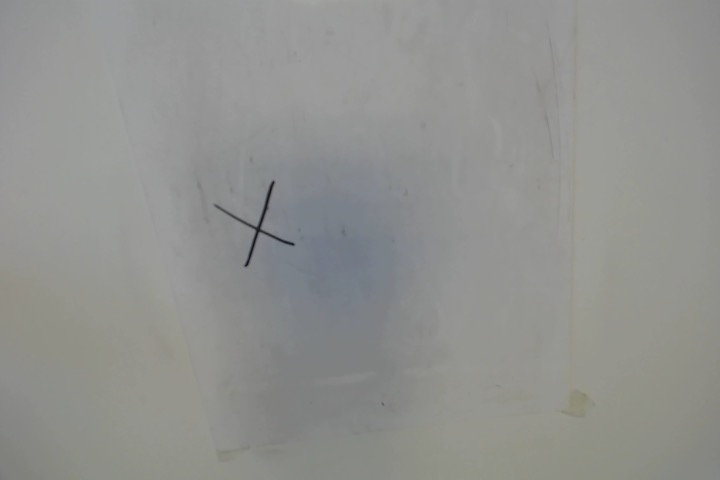x: (197, 180, 299, 268)
